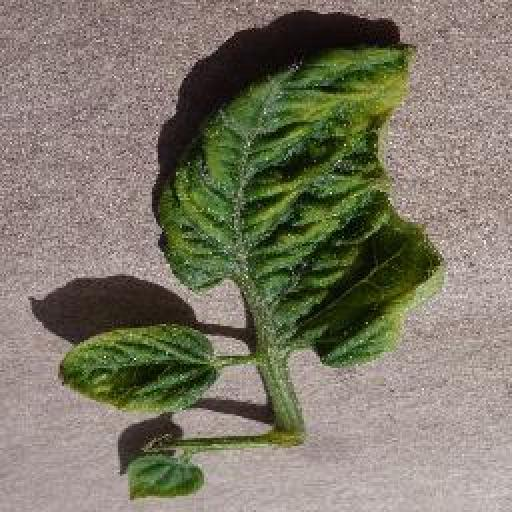Yellow Leaf Curl Virus: (157, 48, 444, 368), (56, 325, 221, 416)
